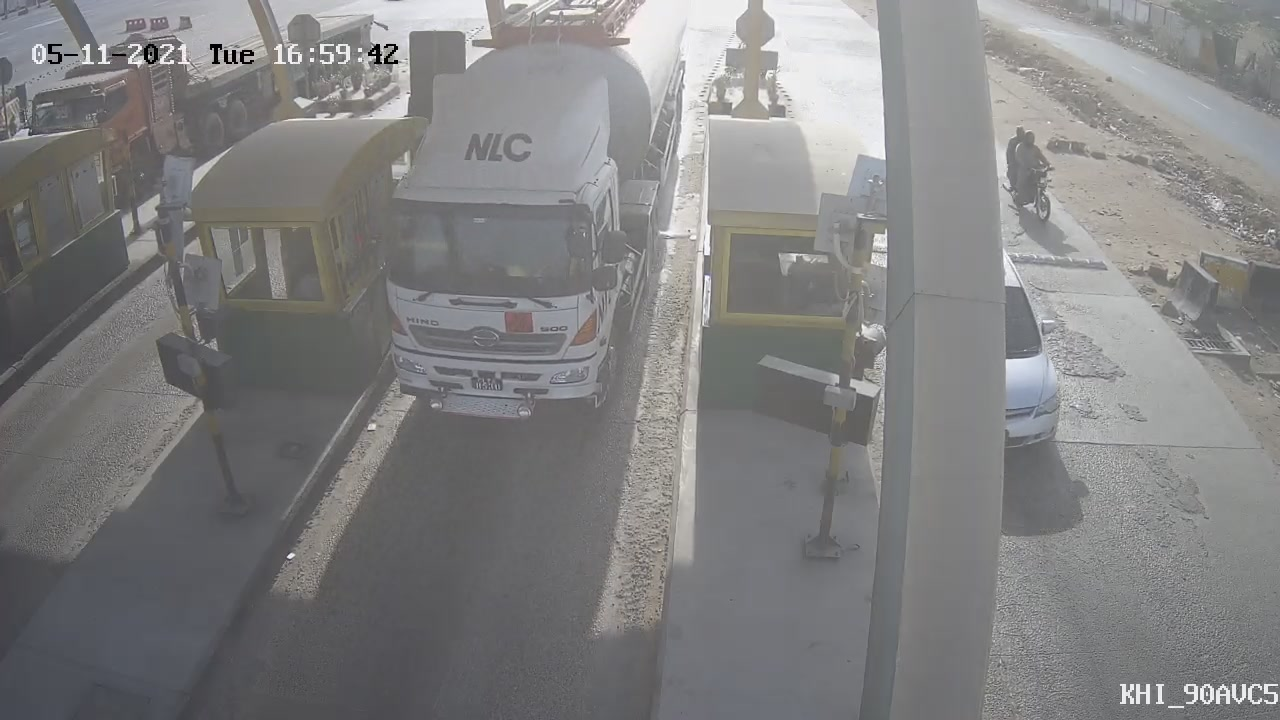F6: (331, 1, 708, 449)
